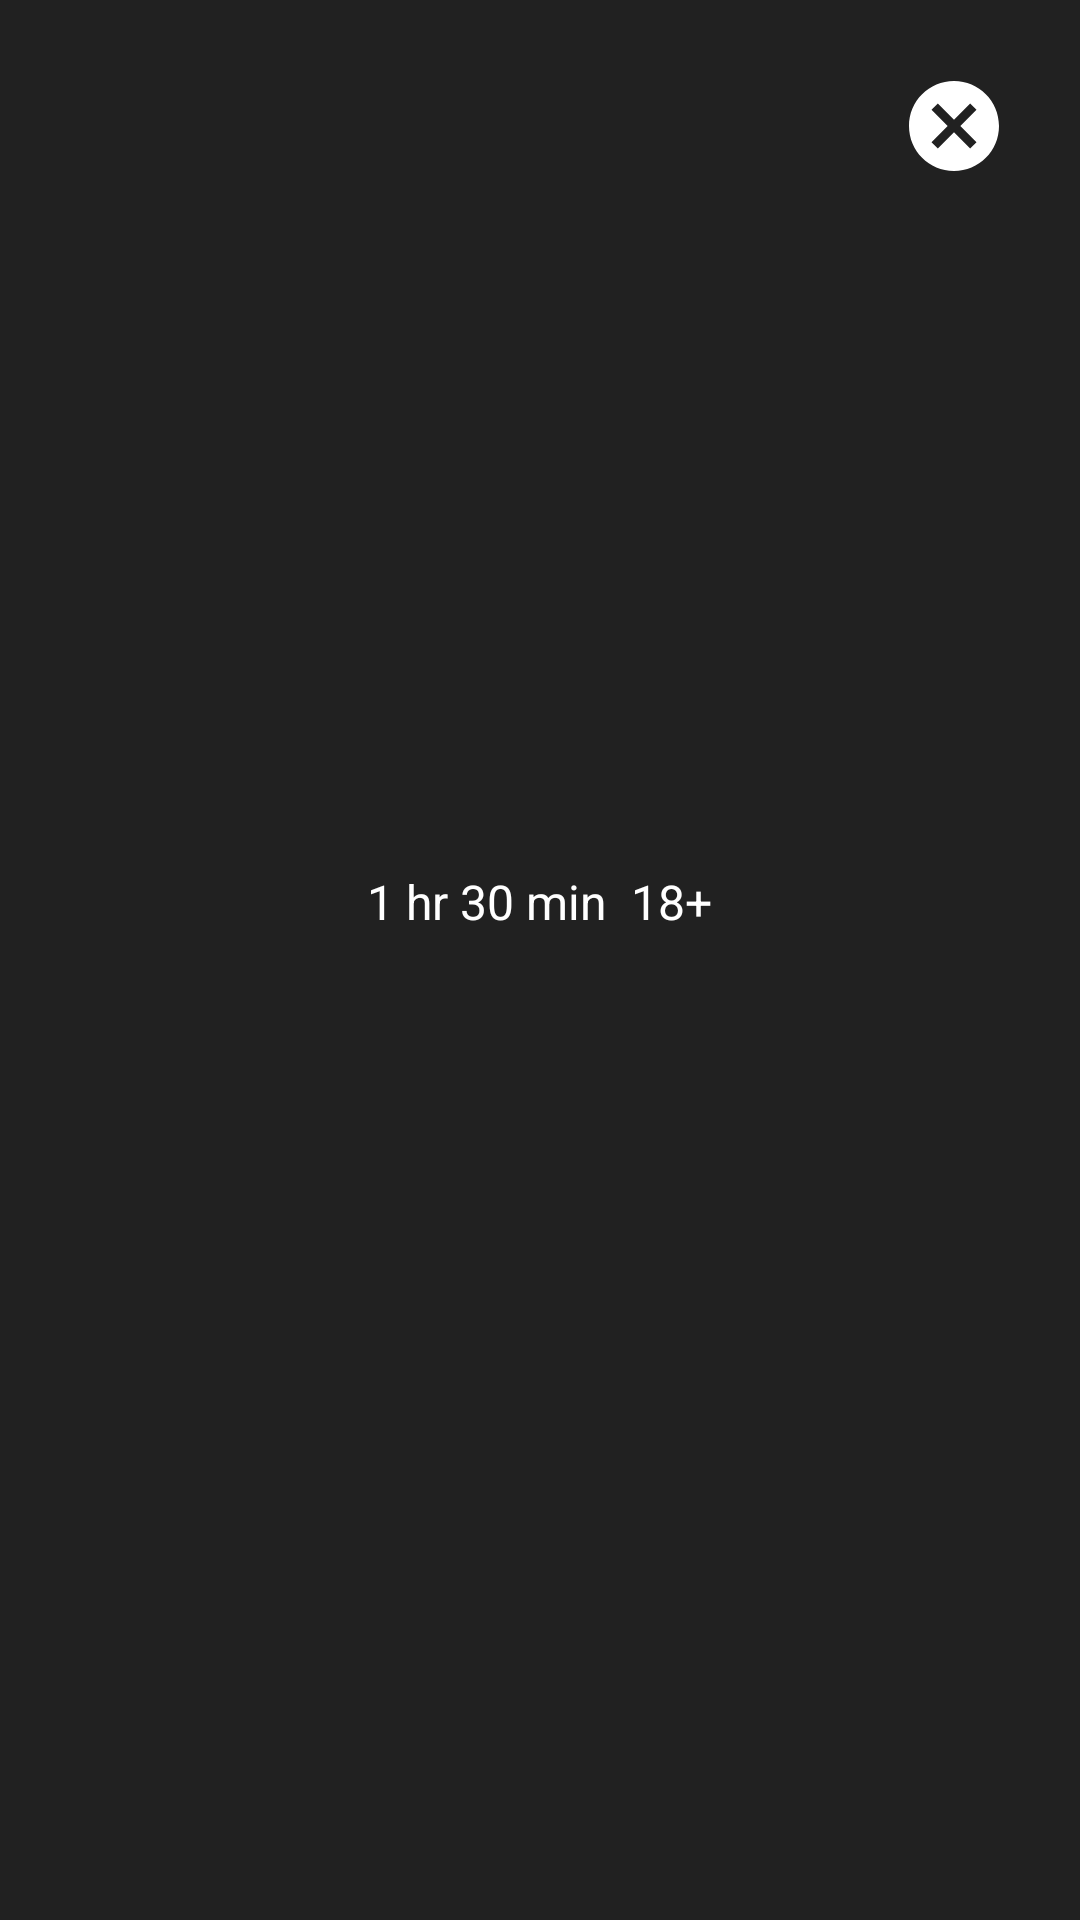

Icon click points for this 1080x1920 phone screenshot, format [x,y]:
close: [954,126]
